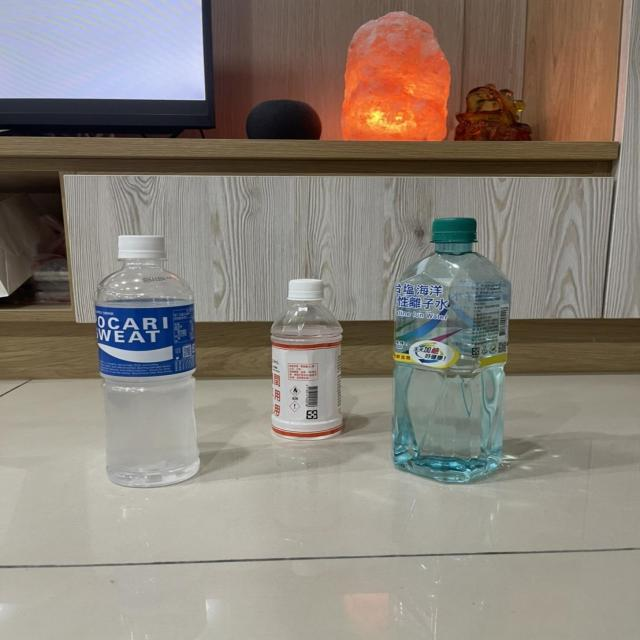bottle: (379, 211, 523, 491), (78, 232, 215, 496), (262, 277, 358, 455)
